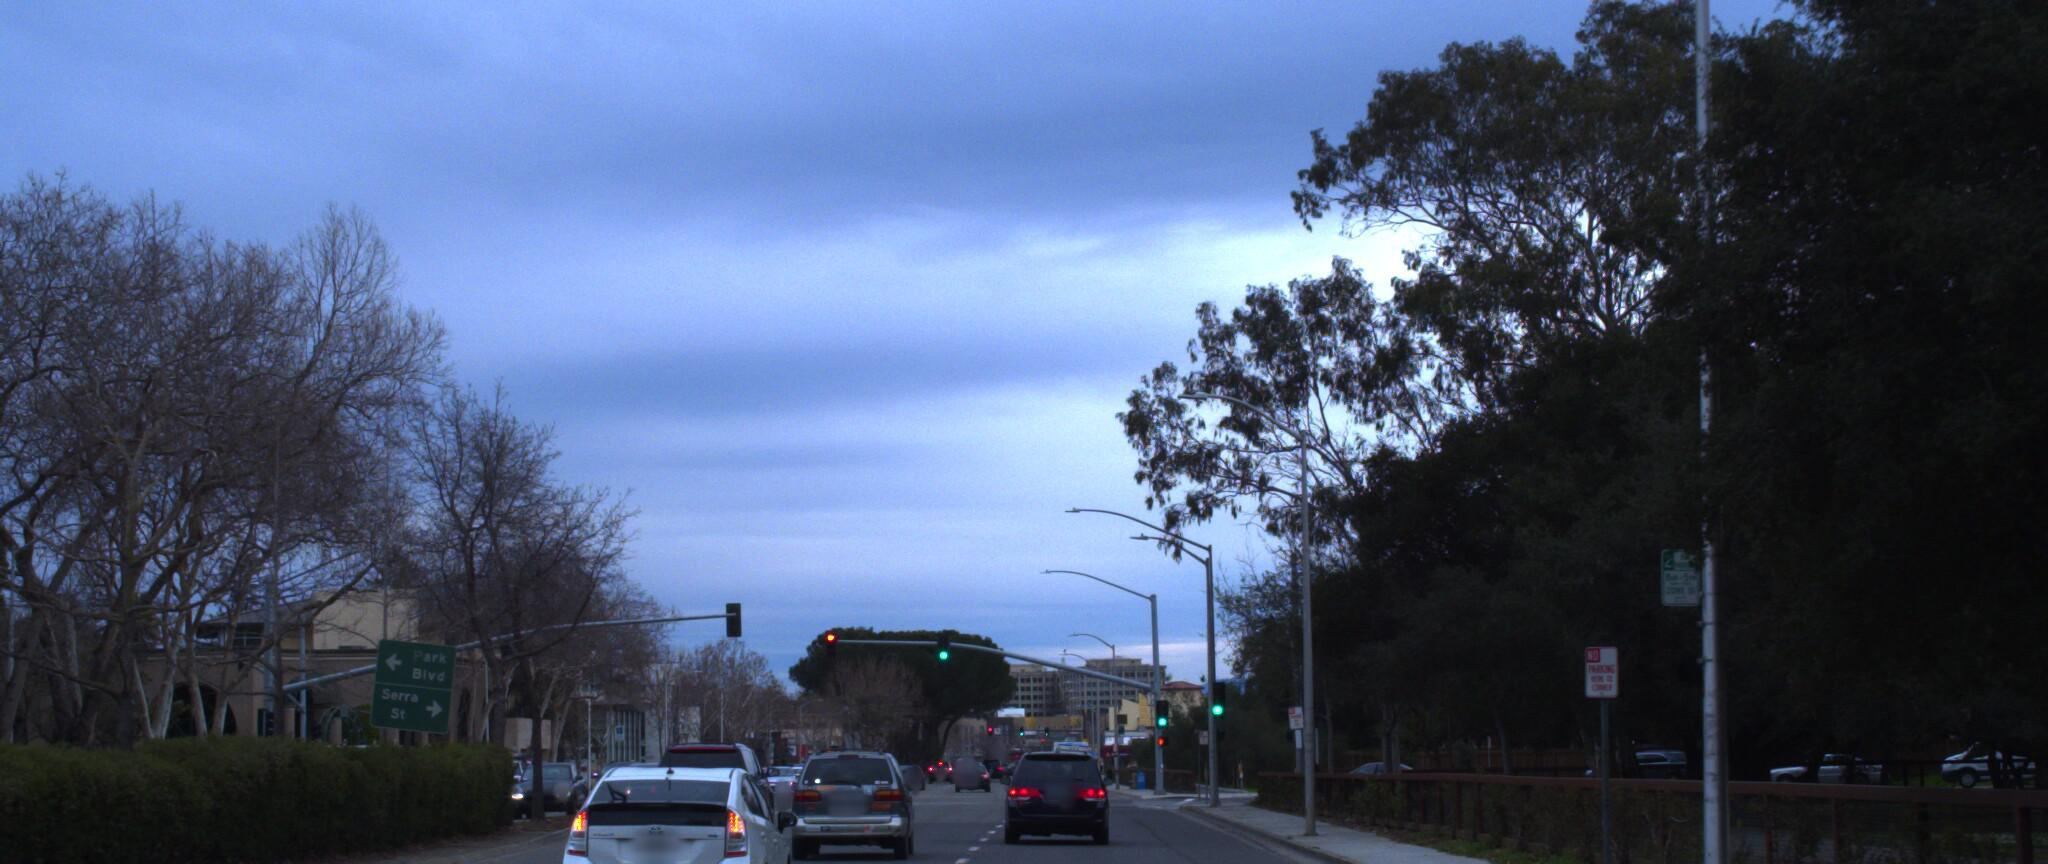car: (549, 745, 808, 864), (788, 731, 920, 846), (671, 724, 794, 829), (1000, 743, 1110, 837)
